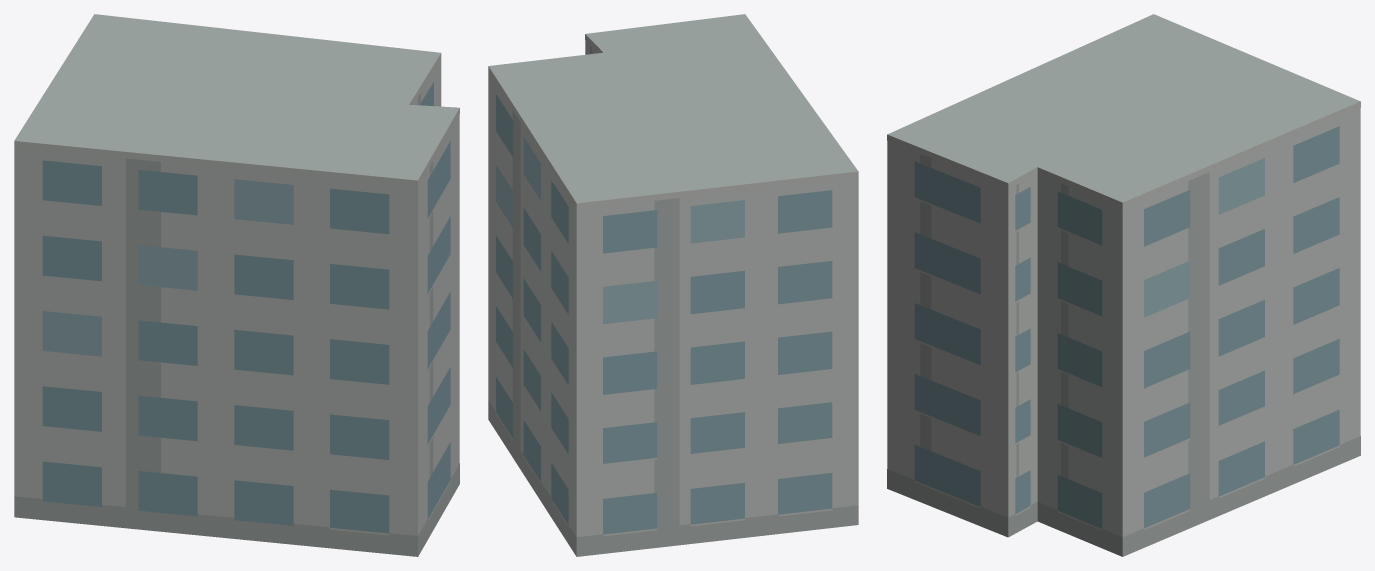
File: survey-upis-32881797.glb
3 renders of one model, left to right at view 1: azimuth 30°, elevation 25°; view 2: azimuth 150°, elevation 25°; view 3: azimuth 270°, elevation 25°, orthographic. The views are drawn at different scales.
Visible parts, largest first — view 1: survey-upis-32881797.tmp; view 2: survey-upis-32881797.tmp; view 3: survey-upis-32881797.tmp.
Part boxes in pixels (<box>): survey-upis-32881797.tmp: <box>14,14,459,556</box>; survey-upis-32881797.tmp: <box>488,14,858,556</box>; survey-upis-32881797.tmp: <box>887,14,1360,556</box>.
Bounding box in the file's own units: 15.76 × 13.8 × 16.72.
